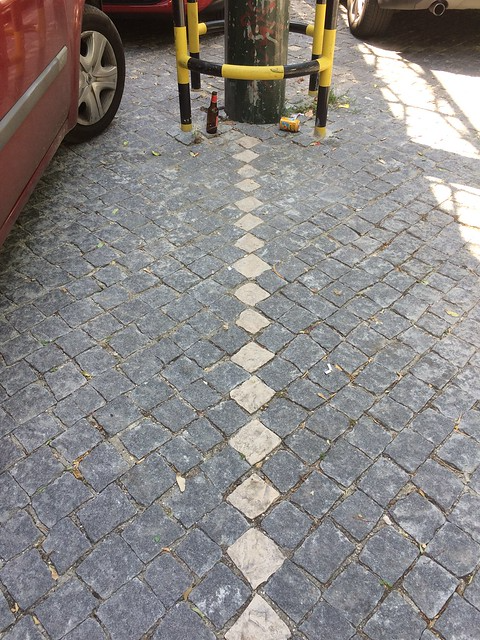bottle: (206, 85, 220, 135)
can: (277, 110, 301, 135)
